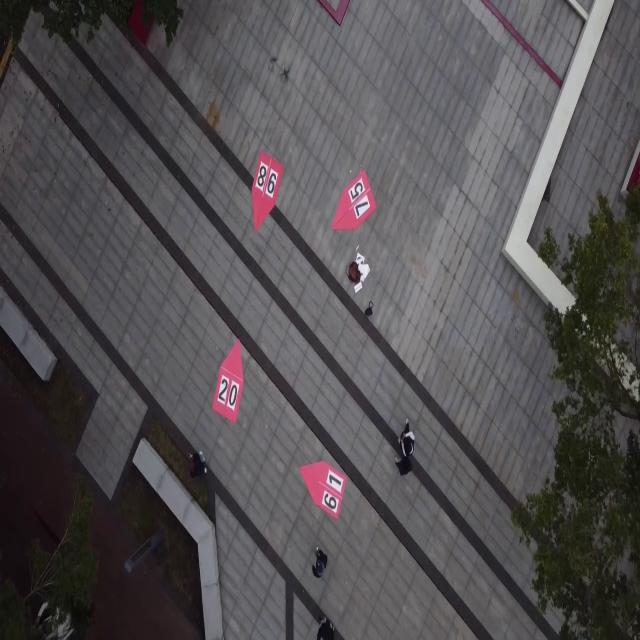-sign-: (250, 149, 284, 233), (300, 461, 346, 522), (332, 169, 377, 231), (212, 338, 244, 424)
